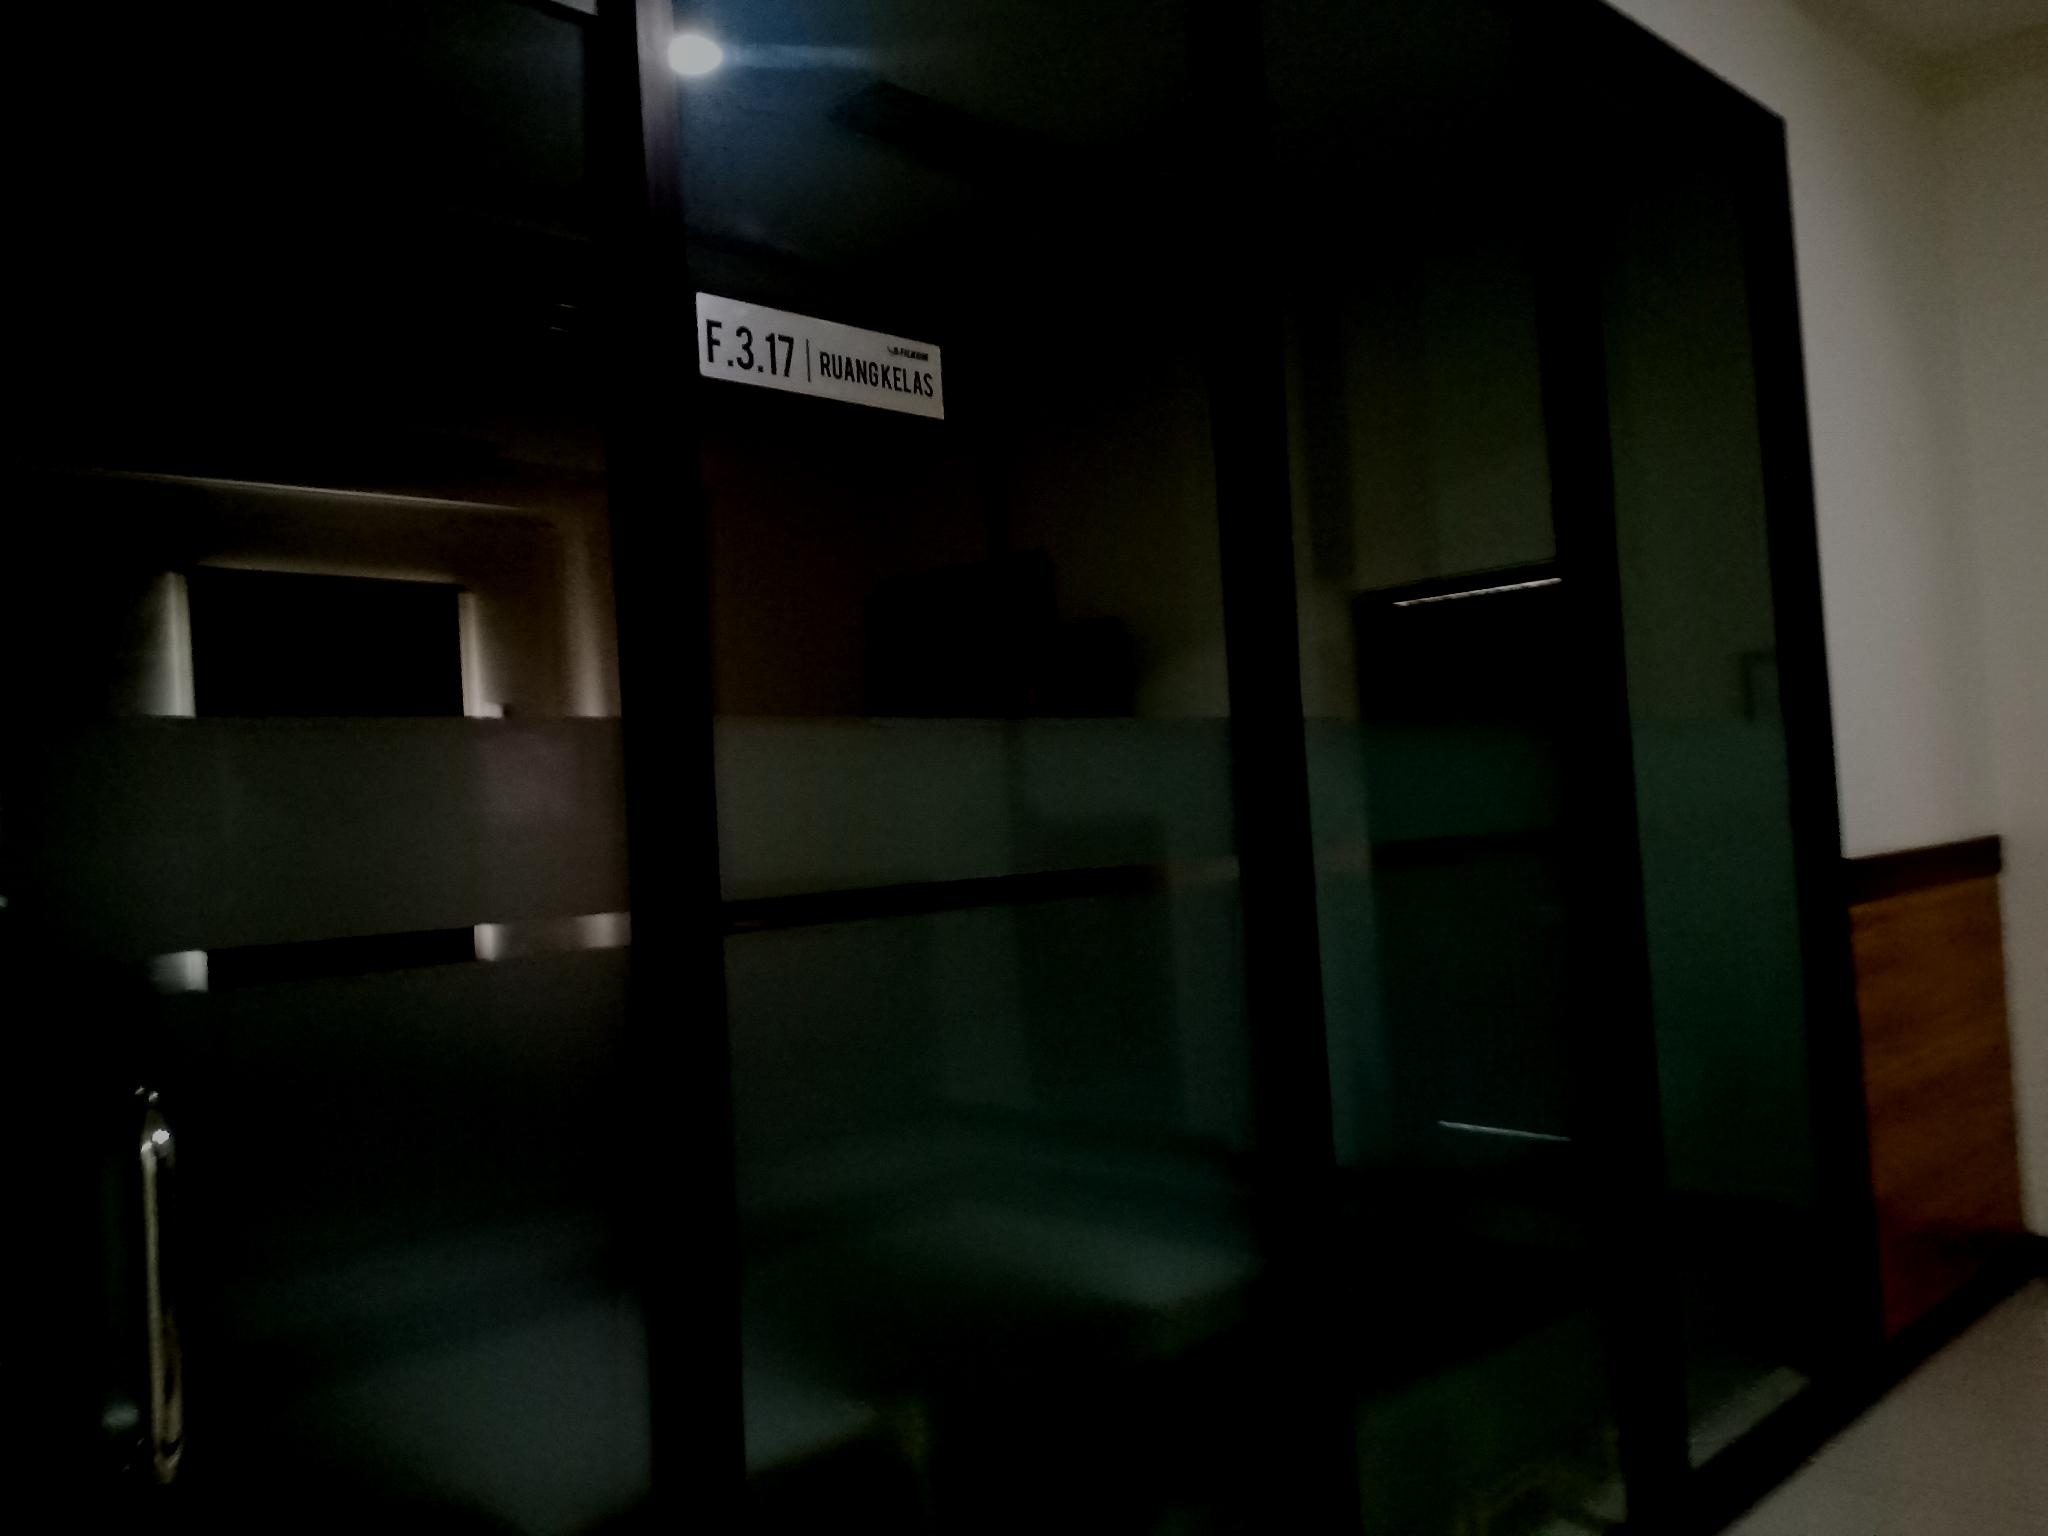plate: (695, 289, 947, 421)
